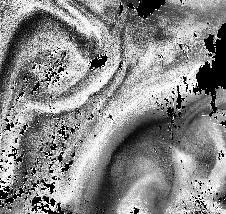AE: (9, 7, 112, 112)
